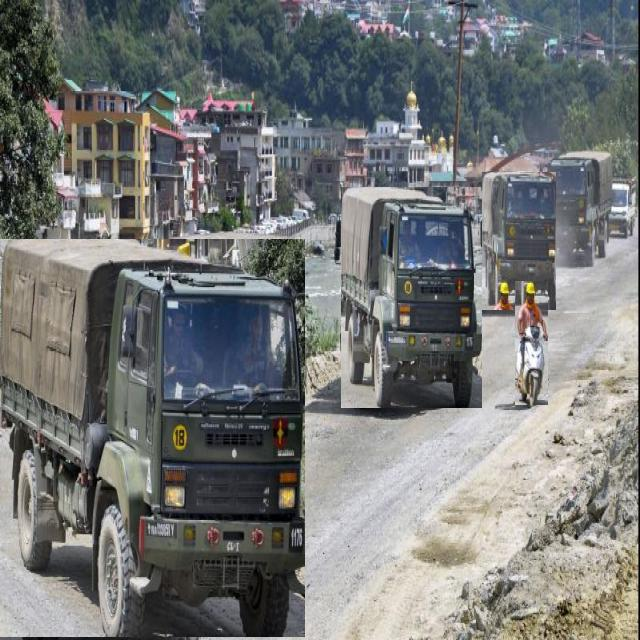motorcycle: (515, 281, 548, 405)
truck: (0, 239, 305, 637), (341, 188, 481, 408), (482, 172, 555, 310), (550, 150, 612, 265)
